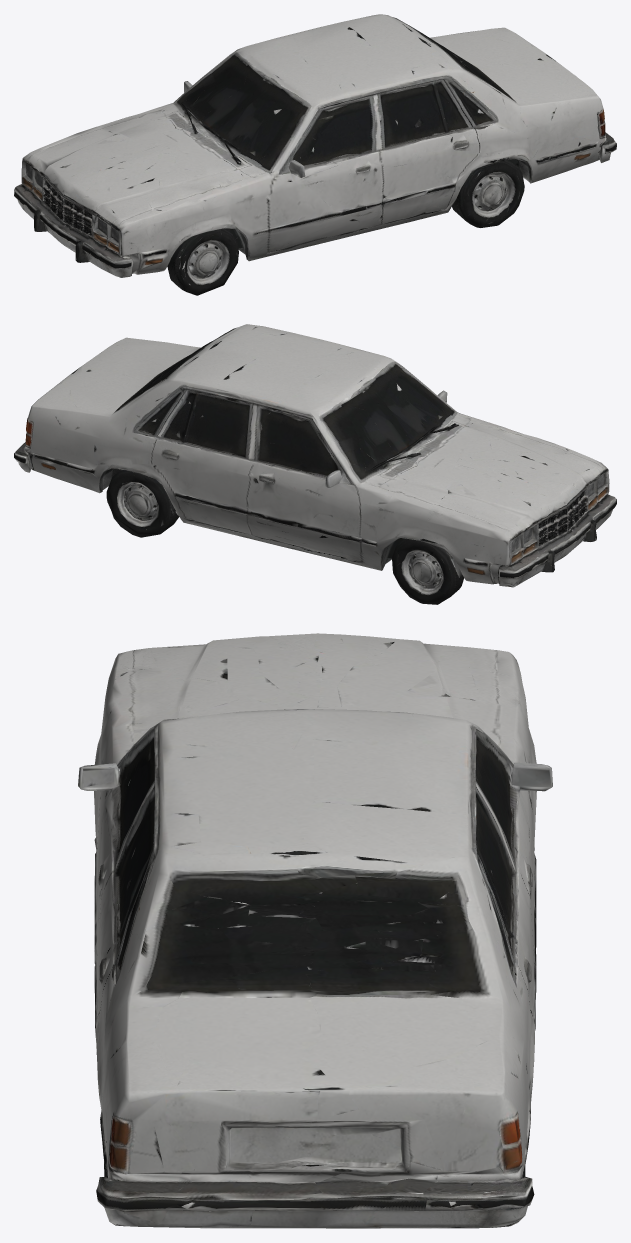
File: berline.glb
3 views of the same model, one above another, from view 1: azimuth 30°, elevation 25°; view 2: azimuth 150°, elevation 25°; view 3: azimuth 270°, elevation 25° (orthographic). The views are drawn at different scales.
Size of the model in its own units: 1.9 by 0.5678 by 0.7655.
1 material, 1 textured.
